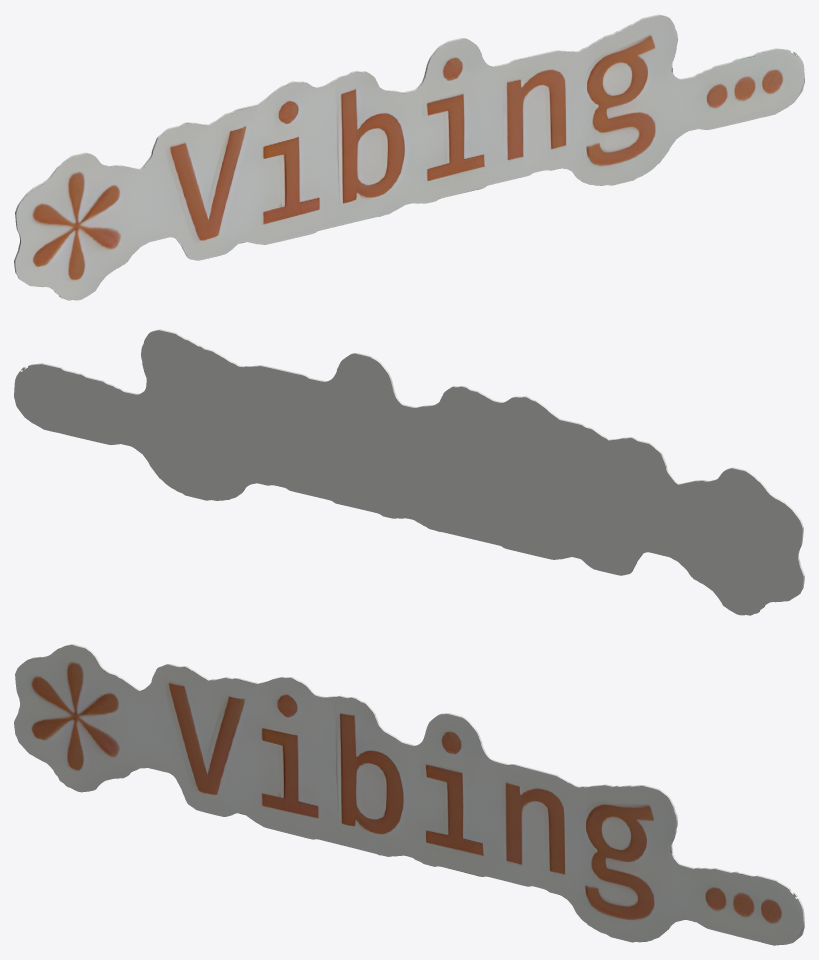
The model's file is new-03-vibing.glb.
3 renders of one model, top to bottom at view 1: azimuth 30°, elevation 25°; view 2: azimuth 150°, elevation 25°; view 3: azimuth 330°, elevation 25°, orthographic.
Parts seen in each view (by area): view 1: new-03-vibing / thin printed sticker; view 2: new-03-vibing / thin printed sticker; view 3: new-03-vibing / thin printed sticker.
Part boxes in pixels (x1,y1,x2,y2): new-03-vibing / thin printed sticker: [14, 14, 804, 300]; new-03-vibing / thin printed sticker: [14, 329, 804, 615]; new-03-vibing / thin printed sticker: [14, 644, 804, 945].
Size of the model in its own units: 2.31 by 0.5119 by 0.006.
Materials: 2 (1 with a texture image).
